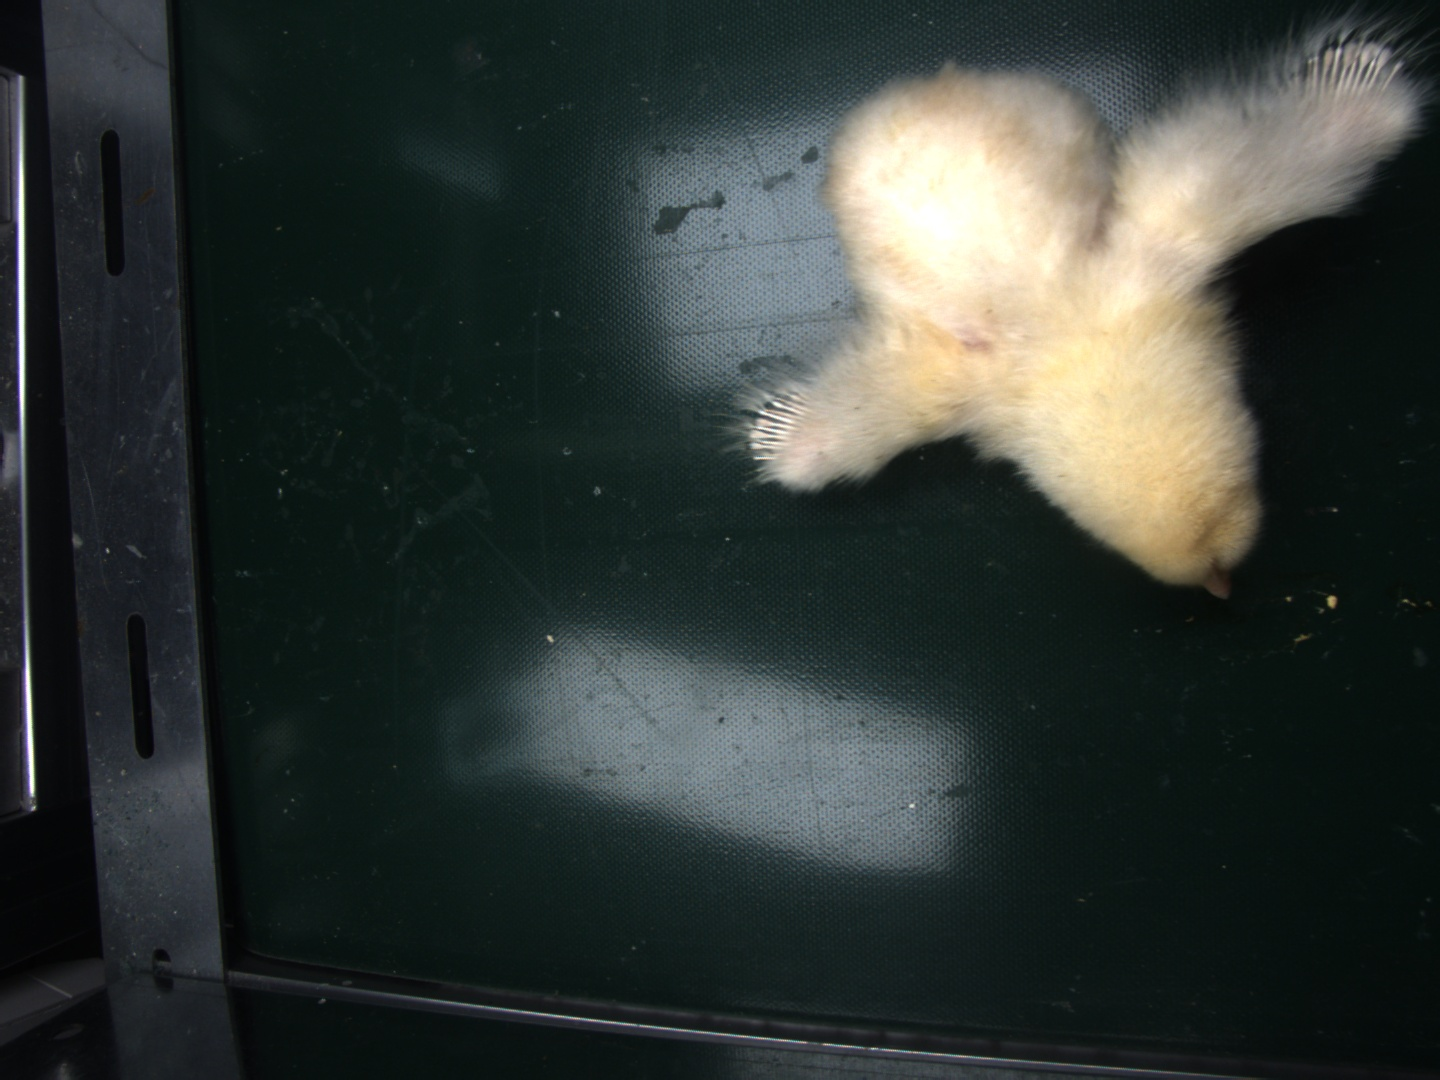male: (1298, 42, 1406, 98), (746, 396, 806, 474)
